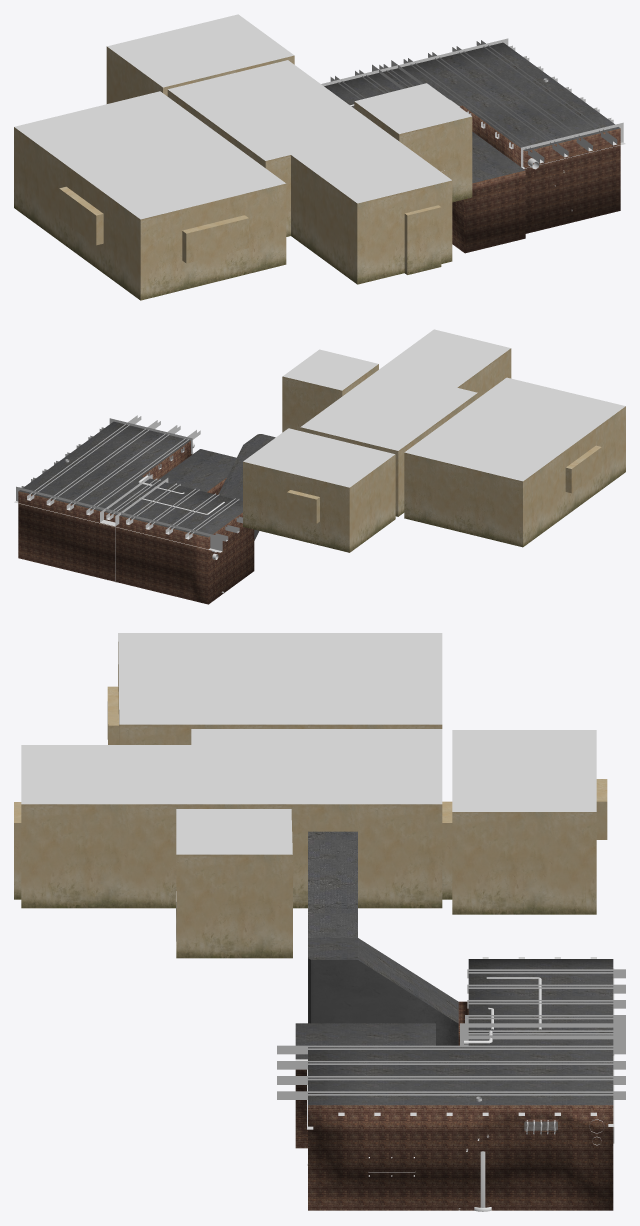
Rendered from Basement.fbx.
3 views of the same model, one above another, from view 1: azimuth 30°, elevation 25°; view 2: azimuth 150°, elevation 25°; view 3: azimuth 270°, elevation 25° (orthographic). The views are drawn at different scales.
Parts seen in each view (by area): view 1: Inside_LivingRoom, Inside_Hall, Basement, Inside_bedroom, Inside_bathroom, Basement_roof; view 2: Basement, Inside_LivingRoom, Inside_bedroom, Inside_Hall, Basement_roof, Inside_bathroom, Stairs; view 3: Basement, Inside_Hall, Inside_LivingRoom, Inside_bedroom, Inside_bathroom, Stairs, Basement_roof.
Part boxes in pixels (box(x1,y1,x2,y2)): Inside_LivingRoom: box(14, 91, 286, 300); Inside_Hall: box(167, 60, 452, 284); Basement: box(324, 42, 620, 253); Inside_bedroom: box(106, 14, 294, 103); Inside_bathroom: box(354, 83, 472, 202); Basement_roof: box(321, 38, 625, 168); Basement: box(18, 421, 254, 604); Inside_LivingRoom: box(404, 377, 625, 547); Inside_bedroom: box(243, 428, 395, 552); Inside_Hall: box(300, 329, 511, 516); Basement_roof: box(14, 415, 242, 582); Inside_bathroom: box(282, 349, 378, 432); Stairs: box(218, 434, 275, 540); Basement: box(295, 959, 613, 1210); Inside_Hall: box(14, 729, 442, 908); Inside_LivingRoom: box(107, 633, 442, 744); Inside_bedroom: box(442, 730, 607, 914); Inside_bathroom: box(176, 809, 292, 958); Stairs: box(308, 831, 458, 1045); Basement_roof: box(277, 957, 625, 1143).
Size of what is drawn, in the model's own units: 2325 by 736 by 1698.
